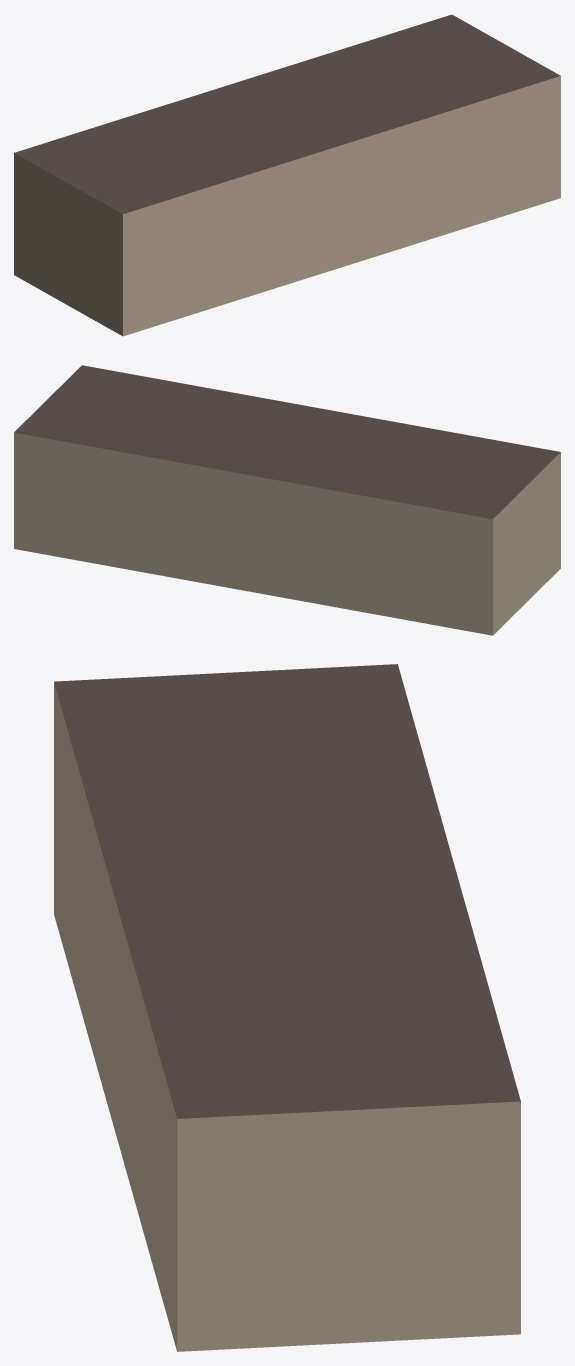
The picture shows the model from 3 angles, top to bottom: view 1: azimuth 30°, elevation 25°; view 2: azimuth 150°, elevation 25°; view 3: azimuth 270°, elevation 25°; orthographic projection. The views are drawn at different scales.
Parts seen in each view (by area): view 1: HP-w442103688; view 2: HP-w442103688; view 3: HP-w442103688.
Part boxes in pixels (x1,y1,x2,y2): HP-w442103688: (14,14,560,336); HP-w442103688: (14,365,560,635); HP-w442103688: (54,664,520,1351).
Bounding box in the file's own units: 37.69 × 9 × 16.35.
